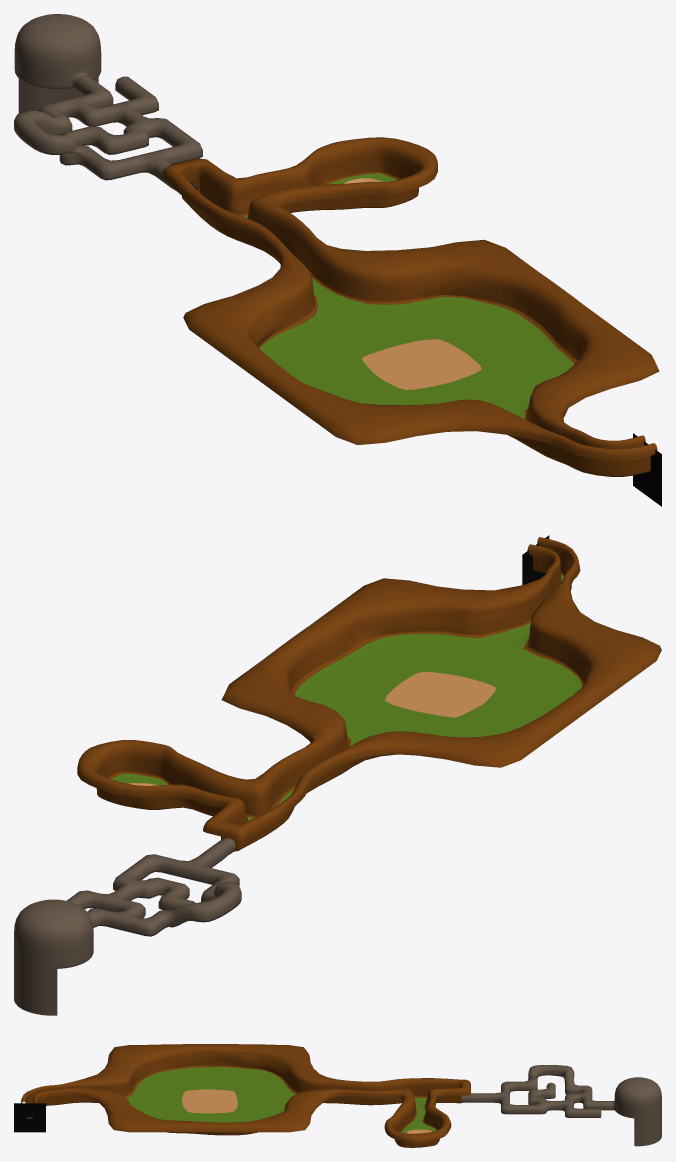
The model's file is Map FINAL.fbx.
3 renders of one model, top to bottom at view 1: azimuth 30°, elevation 25°; view 2: azimuth 150°, elevation 25°; view 3: azimuth 270°, elevation 25°, orthographic. The views are drawn at different scales.
Parts seen in each view (by area): view 1: Terrain, Plane; view 2: Terrain; view 3: Terrain, Plane.
Part boxes in pixels (x1,y1,x2,y2): Terrain: (14, 14, 659, 476); Plane: (633, 433, 661, 506); Terrain: (14, 537, 661, 1015); Terrain: (21, 1044, 661, 1147); Plane: (14, 1103, 45, 1132).
Size of the model in its own units: 21108 by 5636 by 60317.
